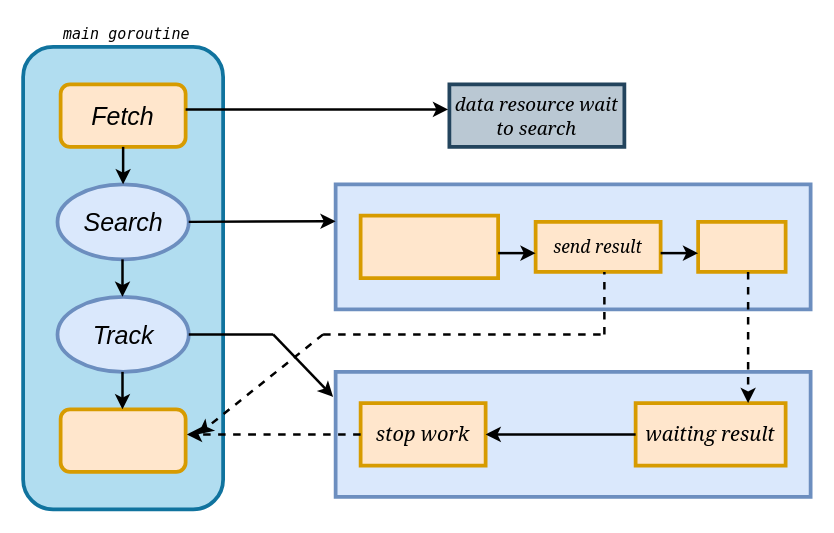
This 834x533 diagram has some shape labels left out. Each missing label, with the box of its shape:
interface match: (358, 213, 499, 279)
report: (696, 219, 787, 273)
Show: (58, 407, 187, 473)
